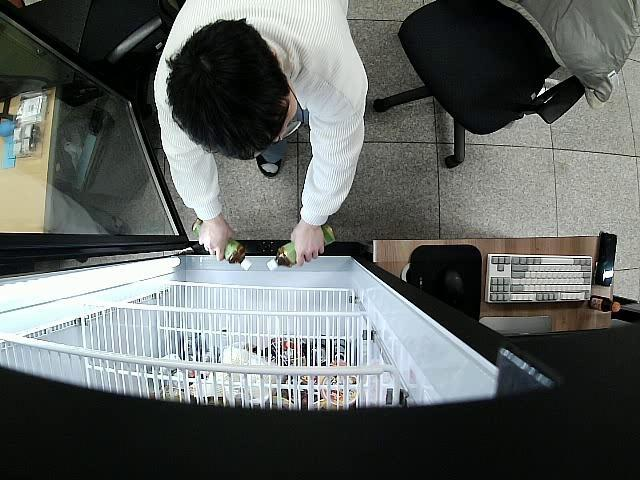19_17cha: (267, 224, 335, 270), (192, 220, 252, 271)
